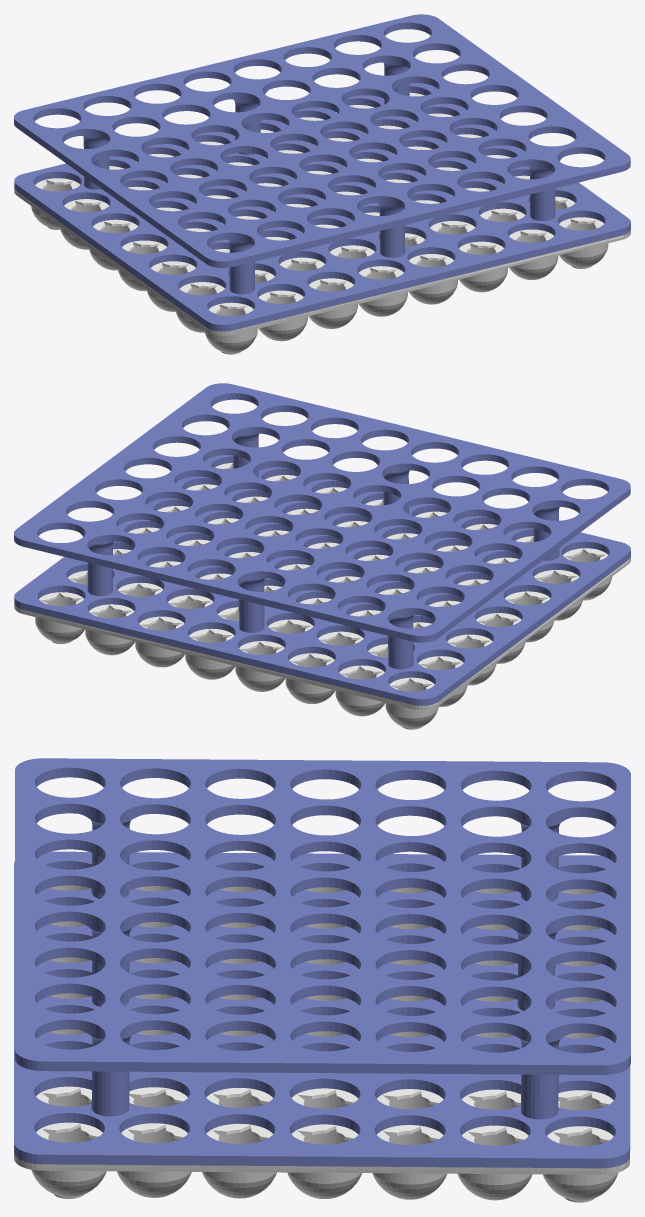
File: SoportesLab.glb
3 renders of one model, top to bottom at view 1: azimuth 30°, elevation 25°; view 2: azimuth 150°, elevation 25°; view 3: azimuth 270°, elevation 25°, orthographic. The views are drawn at different scales.
Parts seen in each view (by area): view 1: Sin título; view 2: Sin título; view 3: Sin título.
Boxes of the visible parts, <box> form: Sin título: <box>14,14,630,354</box>; Sin título: <box>14,383,630,729</box>; Sin título: <box>14,758,630,1202</box>.
Size of the model in its own units: 20.21 by 5.03 by 17.39.
